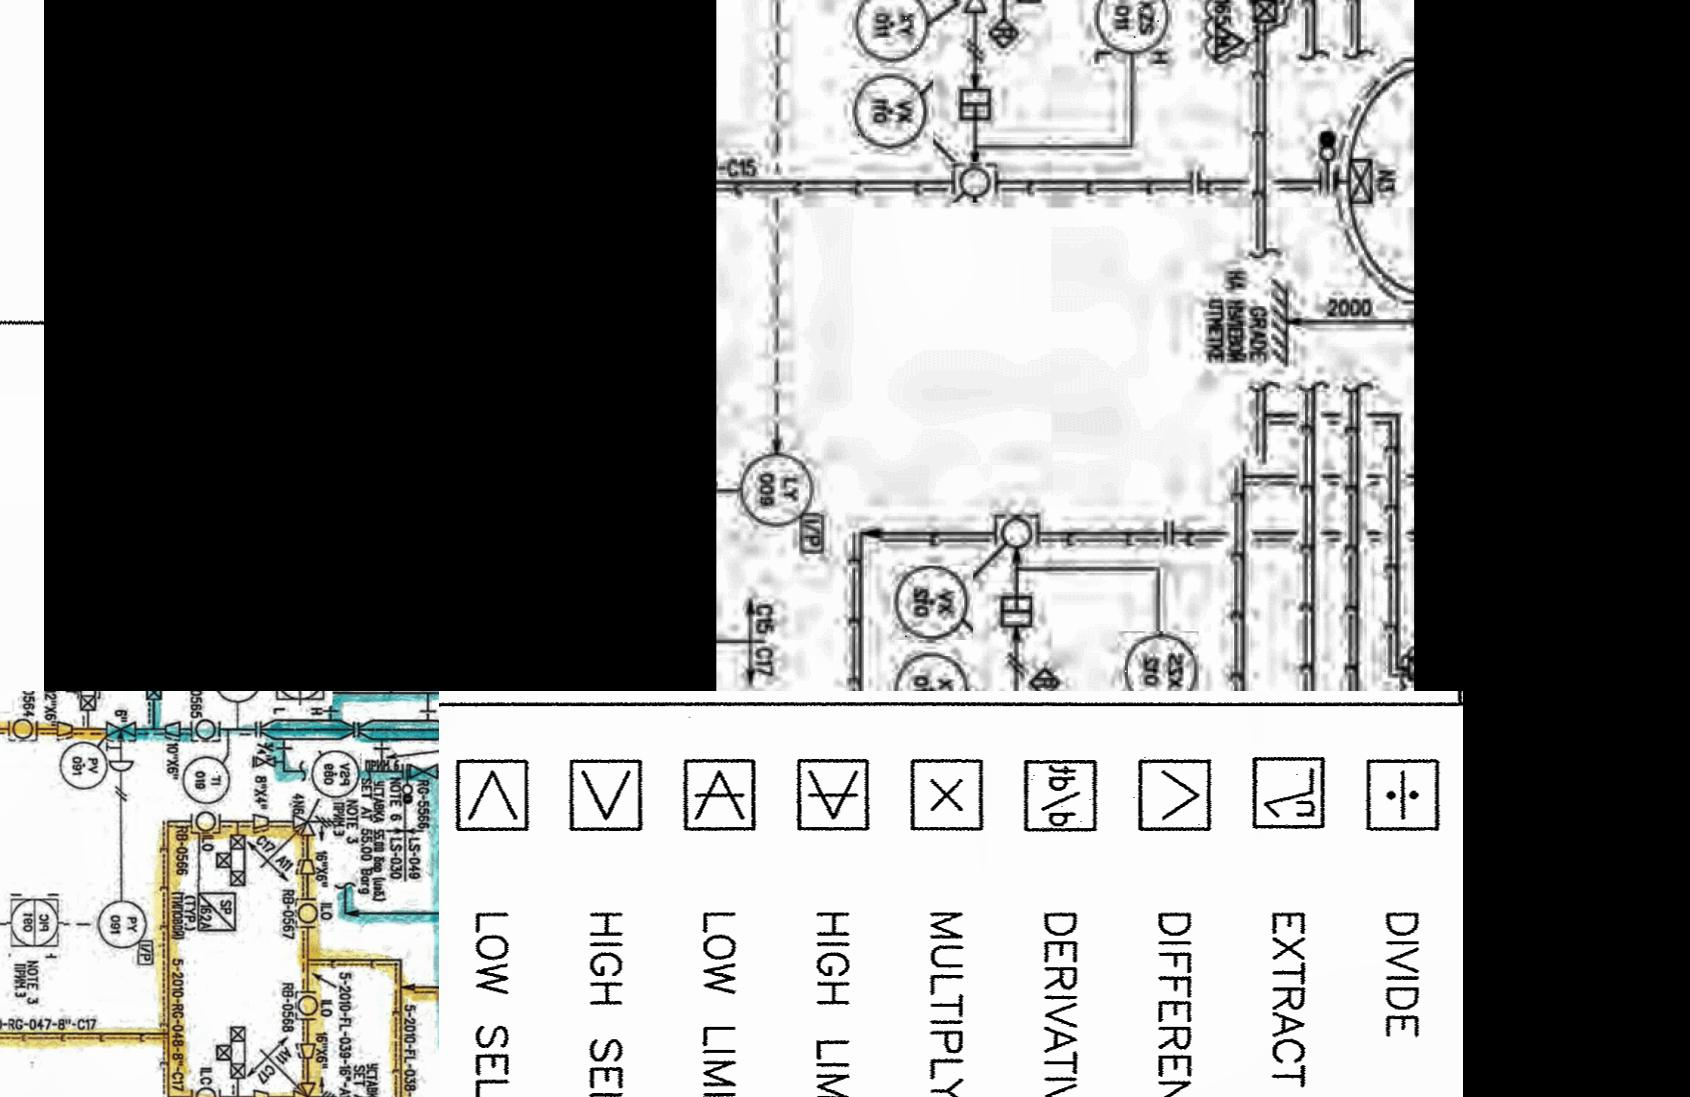2 WAY VALVE: (216, 1022, 250, 1083), (783, 0, 849, 32), (214, 832, 249, 890), (62, 691, 103, 713), (126, 691, 169, 705)
3 WAY GENERAL VALVE: (506, 0, 564, 18)
ANGLE RELIEF VALVE: (287, 813, 350, 841), (287, 1081, 342, 1097)
CONCENTRIC REDUCER: (296, 852, 315, 880), (161, 719, 185, 742), (51, 719, 75, 741), (248, 811, 273, 832), (297, 1040, 317, 1063), (250, 1090, 273, 1097)
DCS ACCESSIBLE: (4, 893, 62, 953), (269, 691, 331, 705)
DERIVATIVE: (1020, 752, 1106, 840)
DIFFERENCE: (1131, 747, 1217, 837)
DIVIDE: (1366, 751, 1446, 837)
END CAP: (106, 751, 138, 777)
EXTRACT SQ ROOT: (1249, 749, 1330, 838)
FIELD INSTRUMENT: (452, 568, 532, 643), (650, 0, 737, 58), (674, 632, 756, 691), (439, 68, 491, 154), (439, 0, 494, 65), (452, 650, 526, 691), (59, 740, 108, 794), (180, 753, 230, 805), (308, 751, 361, 800), (96, 901, 148, 949), (552, 508, 604, 553), (510, 161, 558, 202), (188, 810, 223, 834), (7, 717, 38, 742), (191, 717, 220, 742), (294, 900, 321, 927), (294, 992, 321, 1019), (212, 691, 264, 704), (193, 1087, 217, 1097)
GATE VALVE: (101, 718, 138, 741), (406, 760, 439, 783), (251, 753, 283, 771)
HARDWIRED INTERLOCK FIELD: (544, 0, 583, 70), (589, 660, 621, 691)
HIGH LIMIT: (791, 749, 878, 834)
HIGH SELECTOR: (565, 752, 647, 841)
LOW LIMIT: (675, 749, 764, 841)
LOW SELECTOR: (447, 753, 537, 836)
MULTIPLY: (900, 752, 995, 837)
SPECIAL PIPING ITEM: (193, 889, 240, 939)
SPECTACLE BLIND OPEN: (867, 119, 903, 208), (399, 751, 413, 808)
SPEED FLOW METER: (562, 0, 608, 14)
